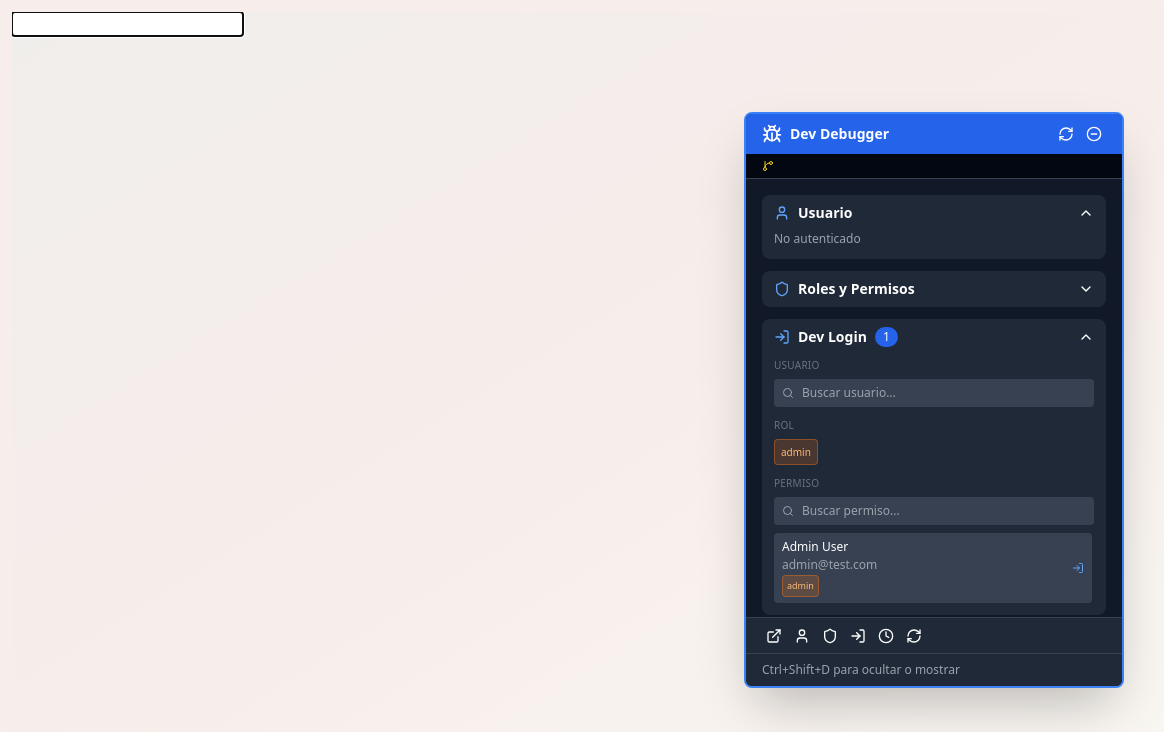
Test case: DevDebugger › filters dev users by search and shows no-results message
This screenshot has width=1164, height=732.
In the field with placeholder "Buscar usuario...": (934, 393) [774,379,1094,407], type "xyz-not-found"
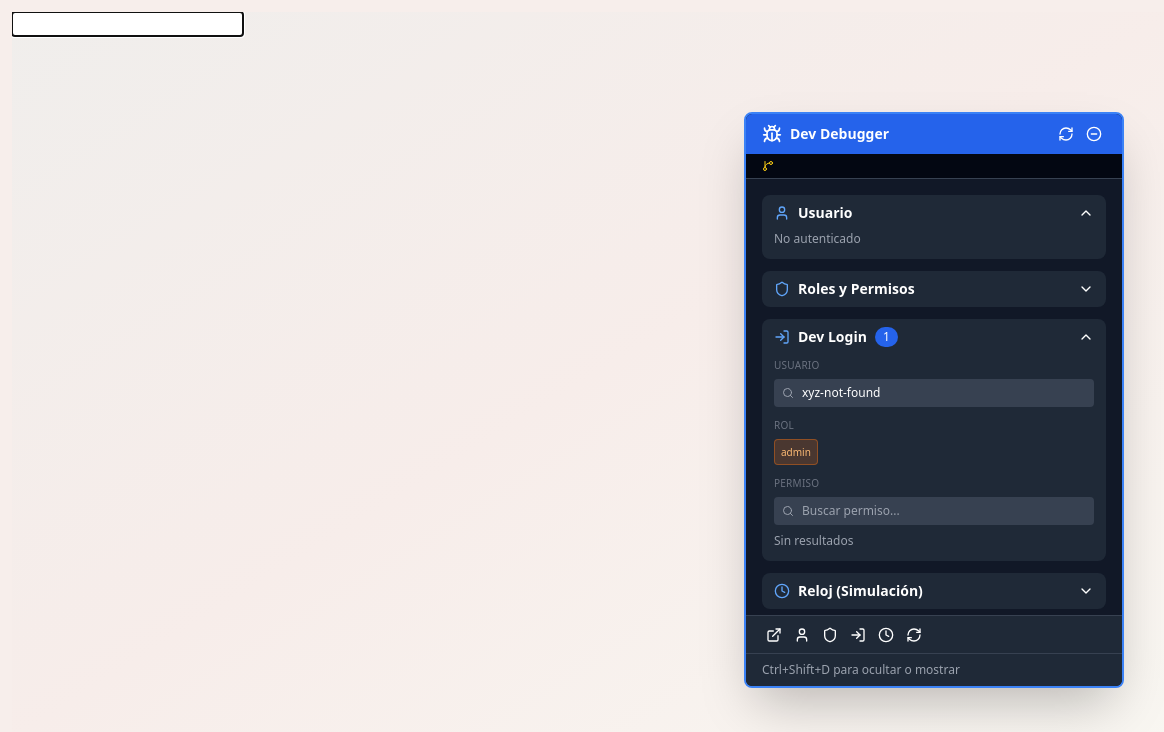
Expected: the text "Sin resultados" is shown, [774,532,853,549]
